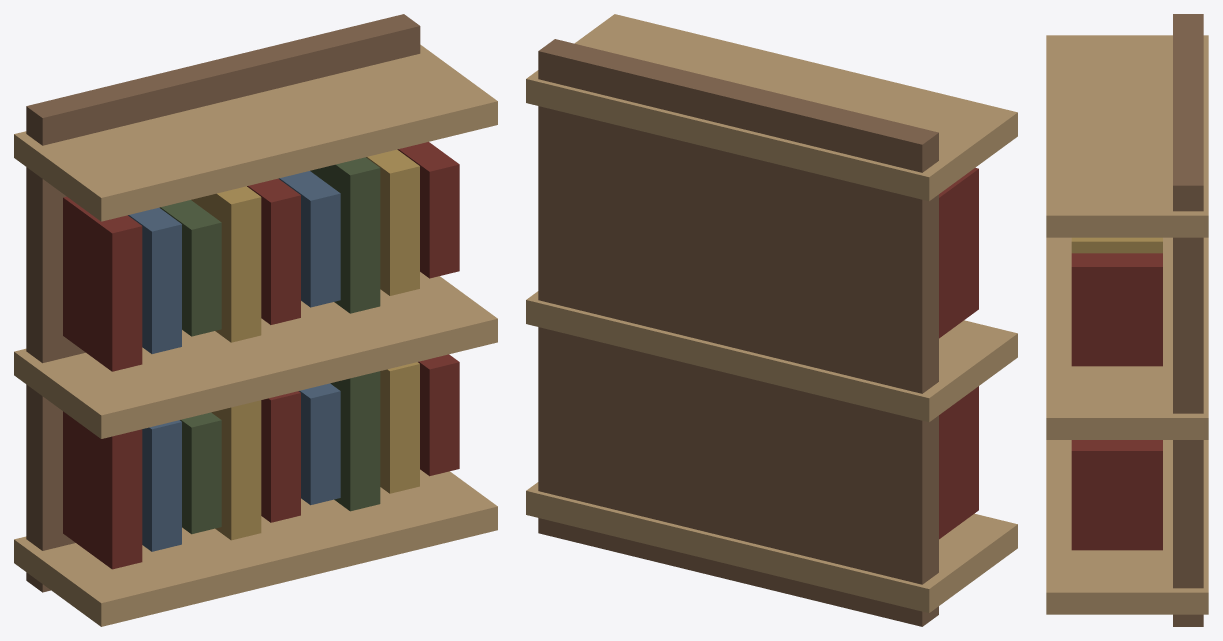
The model's file is shelf.glb.
The picture shows the model from 3 angles, left to right: view 1: azimuth 30°, elevation 25°; view 2: azimuth 150°, elevation 25°; view 3: azimuth 270°, elevation 25°; orthographic projection. The views are drawn at different scales.
Parts seen in each view (by area): view 1: shelf; view 2: shelf; view 3: shelf.
Boxes of the visible parts, x1,y1,x2,y2 form: shelf: [14, 14, 497, 626]; shelf: [526, 14, 1017, 626]; shelf: [1046, 14, 1208, 626].
Size of the model in its own units: 2.1 by 2.4 by 0.8.
